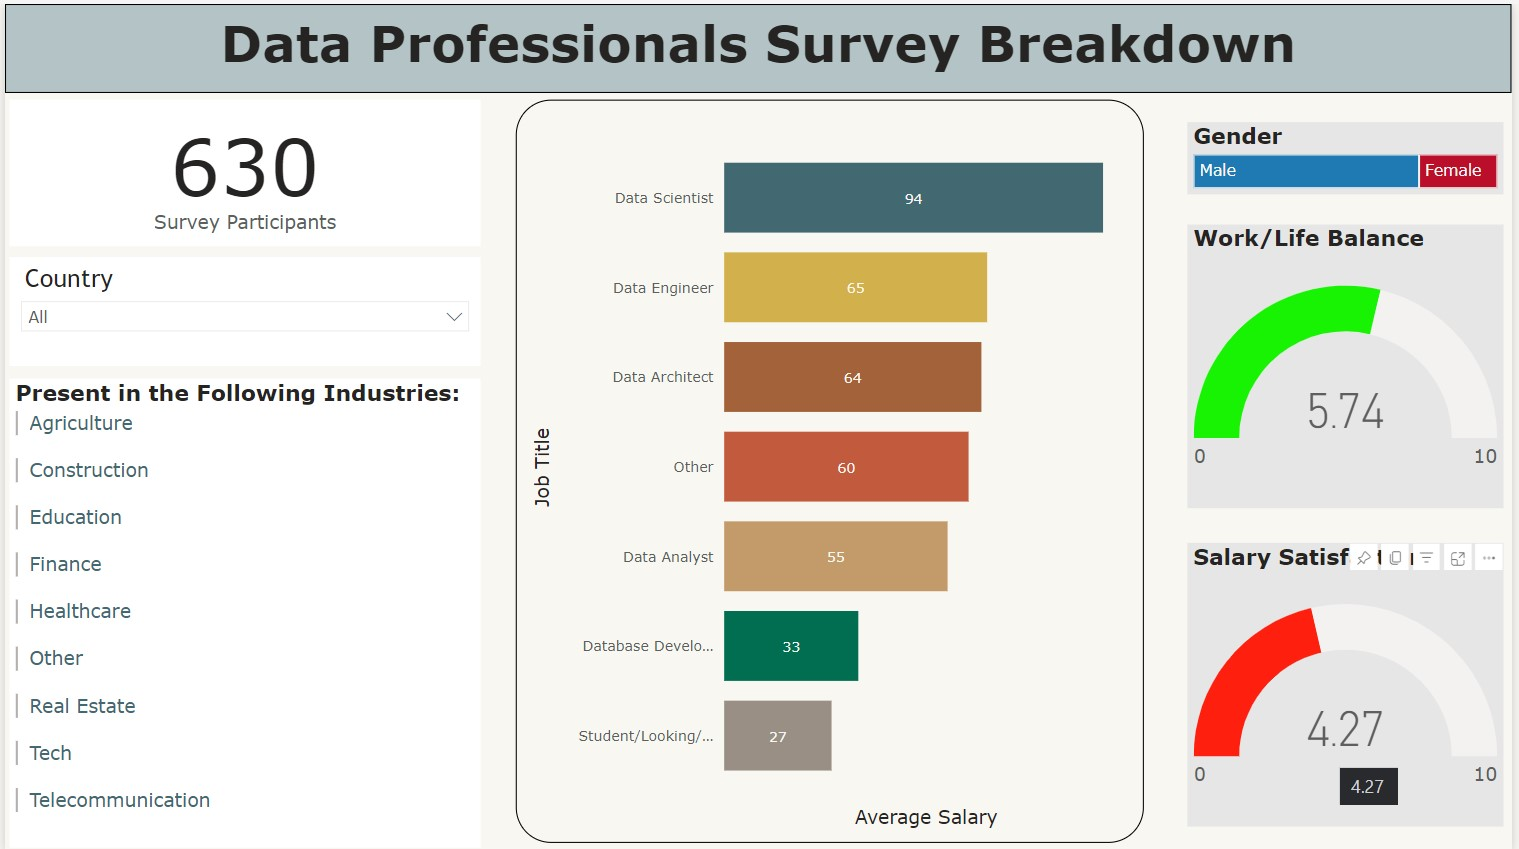

What the dashboard file says about the page in this screenshot:
{"tool":"powerbi","page":{"name":"Page 1","canvas":[1280,720],"ordinal":0},"visuals":[{"type":"textbox","box":[0,0,1279.4,75.6],"z":0},{"type":"card","fields":{"Values":["Count(Data Professionals Survey.Unique ID)"]},"box":[3.7,81.5,400,124.1],"z":1000},{"type":"barChart","title":"Average Salary by Job Title","fields":{"Category":["Data Professionals Survey.Q1 - Which Title Best Fits your Current Role?.1","Data Professionals Survey.Q5 - Favorite Programming Language.1"],"Y":["Avg(Data Professionals Survey.Average Salary)"],"Series":["Data Professionals Survey.Q1 - Which Title Best Fits your Current Role?.1"]},"box":[433.3,81.5,533.3,631.5],"z":3000},{"type":"gauge","title":"Work/Life Balance","fields":{"Y":["Avg(Data Professionals Survey.Q6 - How Happy are you in your Current Position with the following? (Work/Life Balance))"],"MinValue":["Min(Data Professionals Survey.Q6 - How Happy are you in your Current Position with the following? (Work/Life Balance))1"],"MaxValue":["Max(Data Professionals Survey.Q6 - How Happy are you in your Current Position with the following? (Work/Life Balance))2"]},"box":[1003.7,187,268.5,240.7],"z":4000},{"type":"gauge","title":"Salary Satisfaction","fields":{"Y":["Avg(Data Professionals Survey.Q6 - How Happy are you in your Current Position with the following? (Salary))"],"MinValue":["Min(Data Professionals Survey.Q6 - How Happy are you in your Current Position with the following? (Salary))1"],"MaxValue":["Max(Data Professionals Survey.Q6 - How Happy are you in your Current Position with the following? (Salary))2"]},"box":[1003.7,457.4,268.5,240.7],"z":5000},{"type":"slicer","fields":{"Values":["Data Professionals Survey.Q11 - Which Country do you live in?.1"]},"box":[3.7,214.8,400,92.6],"z":6000},{"type":"treemap","title":"Gender","fields":{"Group":["Data Professionals Survey.Q9 - Male/Female?"],"Values":["CountNonNull(Data Professionals Survey.Unique ID)"]},"box":[1003.7,100,268.5,61.1],"z":7000},{"type":"multiRowCard","title":"Present in the Following Industries:","fields":{"Values":["Data Professionals Survey.Q4 - What Industry do you work in?.1"]},"box":[3.7,318.5,400,398.1],"z":8000}]}

Visuals, with their boxes in screenshot pixels (x1, y1, x2, y2), scaled from the page's 1280x720 canvas onto the 1519x849 screenshot:
textbox: 0 0 1518 89
card - Count(Data Professionals Survey.Unique ID): 4 96 479 242
"Average Salary by Job Title" barChart: 514 96 1147 841
"Work/Life Balance" gauge: 1191 221 1510 504
"Salary Satisfaction" gauge: 1191 539 1510 823
slicer - Data Professionals Survey.Q11 - Which Country do you live in?.1: 4 253 479 362
"Gender" treemap: 1191 118 1510 190
"Present in the Following Industries:" multiRowCard: 4 376 479 845
